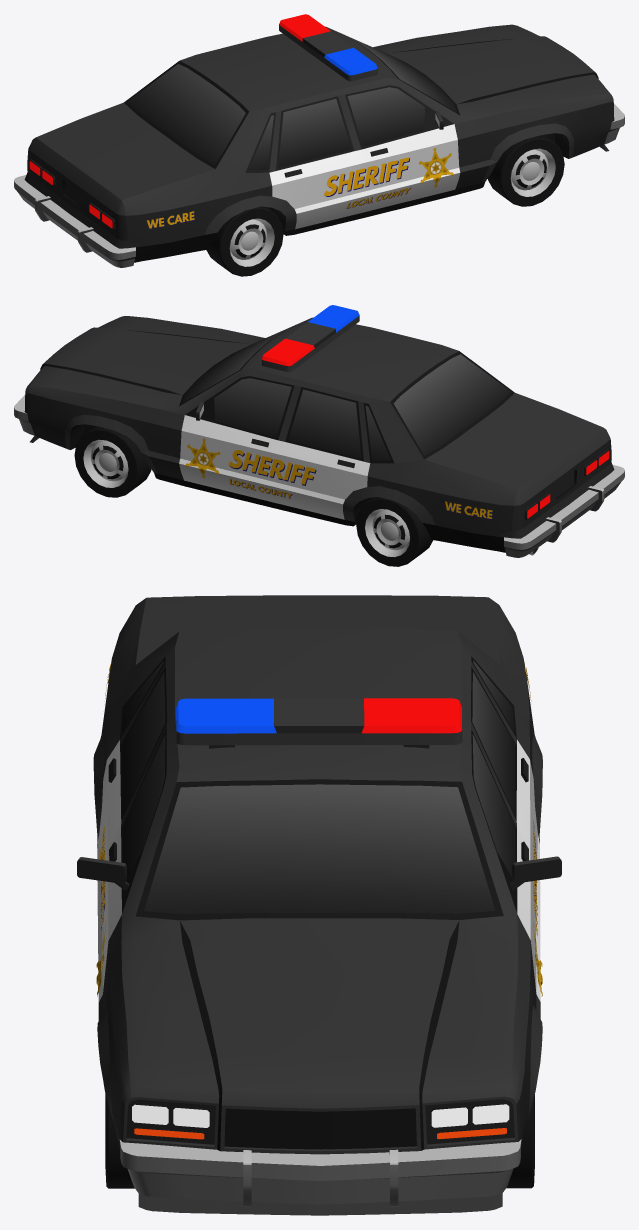
The model's file is Emergency_019.glb.
3 renders of one model, top to bottom at view 1: azimuth 30°, elevation 25°; view 2: azimuth 150°, elevation 25°; view 3: azimuth 270°, elevation 25°, orthographic. The views are drawn at different scales.
Visible parts, largest first — view 1: Emergency_019, wheel_1_Emergency_019_Wheel_1R, wheel_3_Emergency_019_Wheel_2R; view 2: Emergency_019, wheel_0_Emergency_019_Wheel_1L, wheel_2_Emergency_019_Wheel_2L; view 3: Emergency_019, wheel_1_Emergency_019_Wheel_1R, wheel_0_Emergency_019_Wheel_1L.
Boxes of the visible parts, bbox=[...] form: Emergency_019: bbox=[14, 14, 624, 267]; wheel_1_Emergency_019_Wheel_1R: bbox=[487, 135, 564, 206]; wheel_3_Emergency_019_Wheel_2R: bbox=[206, 206, 283, 276]; Emergency_019: bbox=[14, 305, 624, 557]; wheel_0_Emergency_019_Wheel_1L: bbox=[74, 426, 151, 497]; wheel_2_Emergency_019_Wheel_2L: bbox=[356, 497, 433, 566]; Emergency_019: bbox=[77, 595, 561, 1215]; wheel_1_Emergency_019_Wheel_1R: bbox=[105, 1093, 134, 1188]; wheel_0_Emergency_019_Wheel_1L: bbox=[506, 1094, 534, 1188].
Bounding box in the file's own units: 5.15 × 1.49 × 2.03.
Materials: 3 (3 with a texture image).
